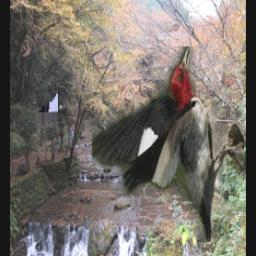Crow: (25, 6, 57, 112)
Woodpecker: (91, 48, 243, 243)
